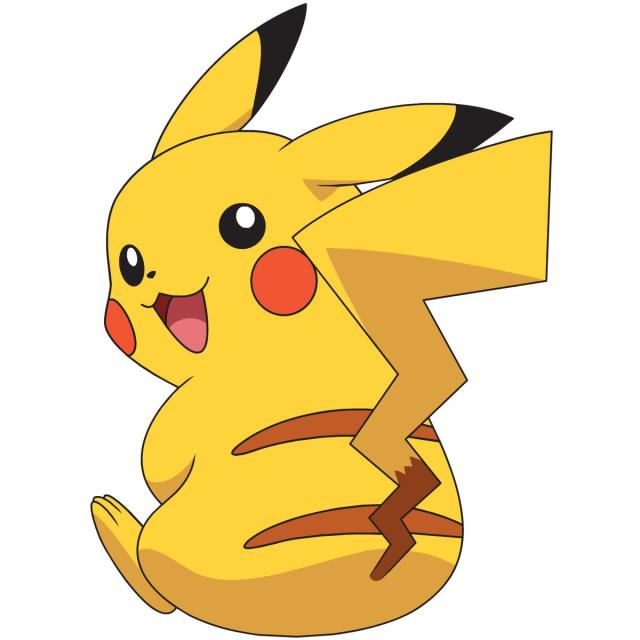pikachu: (91, 4, 554, 640)
